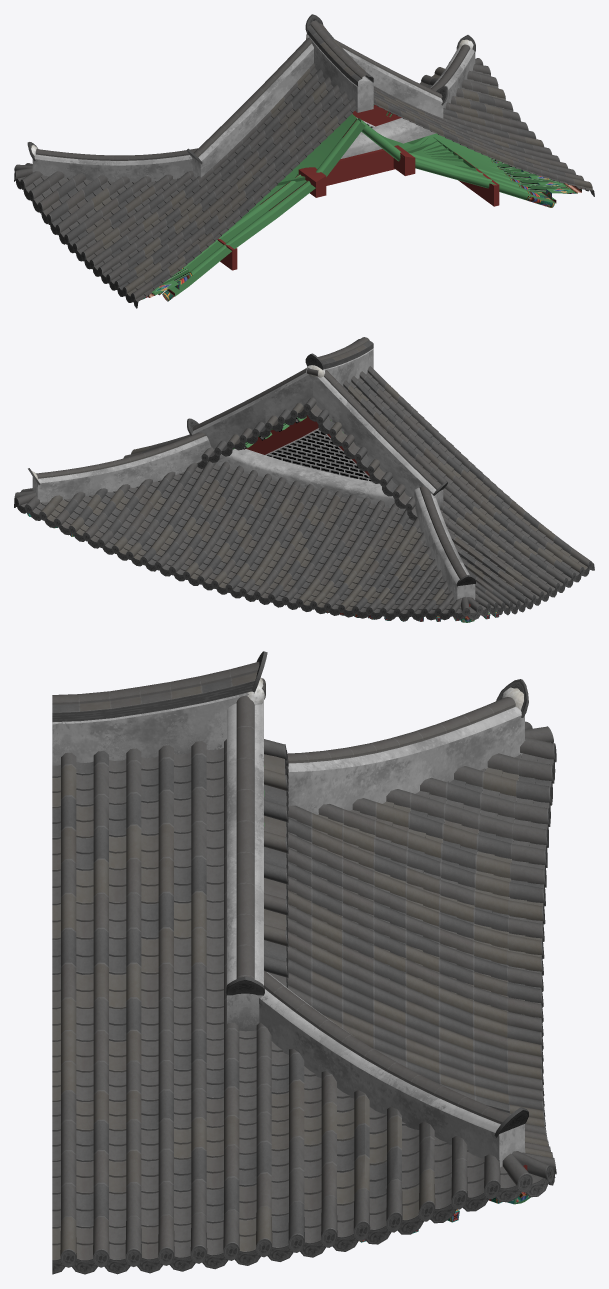
Rendered from SM_Castle_Roof01b.fbx.
The picture shows the model from 3 angles, top to bottom: view 1: azimuth 30°, elevation 25°; view 2: azimuth 150°, elevation 25°; view 3: azimuth 270°, elevation 25°; orthographic projection. The views are drawn at different scales.
Parts seen in each view (by area): view 1: SM_Castle_Roof01b; view 2: SM_Castle_Roof01b; view 3: SM_Castle_Roof01b.
Part boxes in pixels (left/top/right/bottom): SM_Castle_Roof01b: left=14, top=14, right=594, bottom=308; SM_Castle_Roof01b: left=14, top=337, right=594, bottom=622; SM_Castle_Roof01b: left=52, top=651, right=556, bottom=1274.
Size of the model in its own units: 995 by 464 by 422.
Materials: 2 (2 with a texture image).
